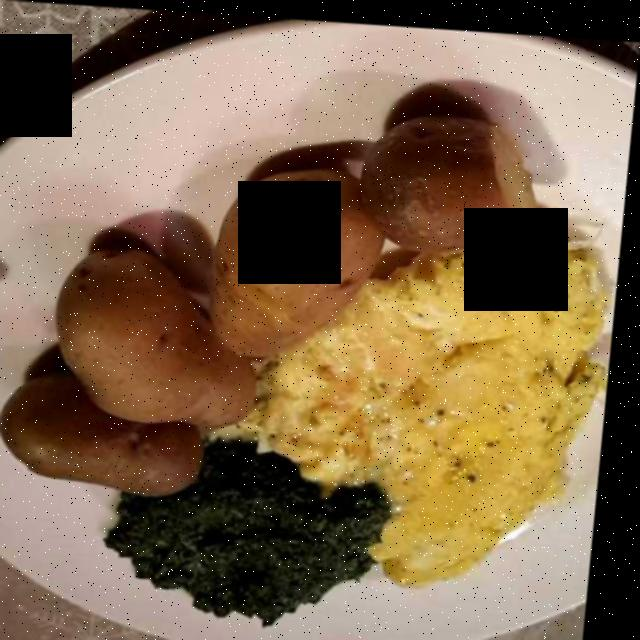broccoli: (119, 438, 391, 612)
cheese-for-raclette: (48, 228, 592, 580)
potatoes-steamed: (3, 68, 548, 490)
